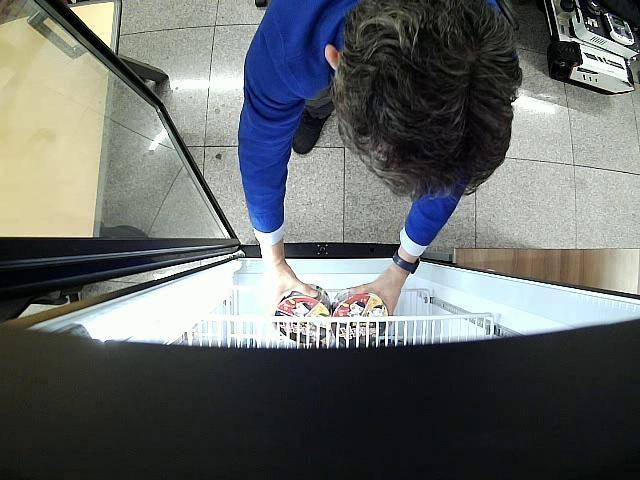07_buldak_L: (274, 284, 333, 343), (332, 288, 388, 344)
